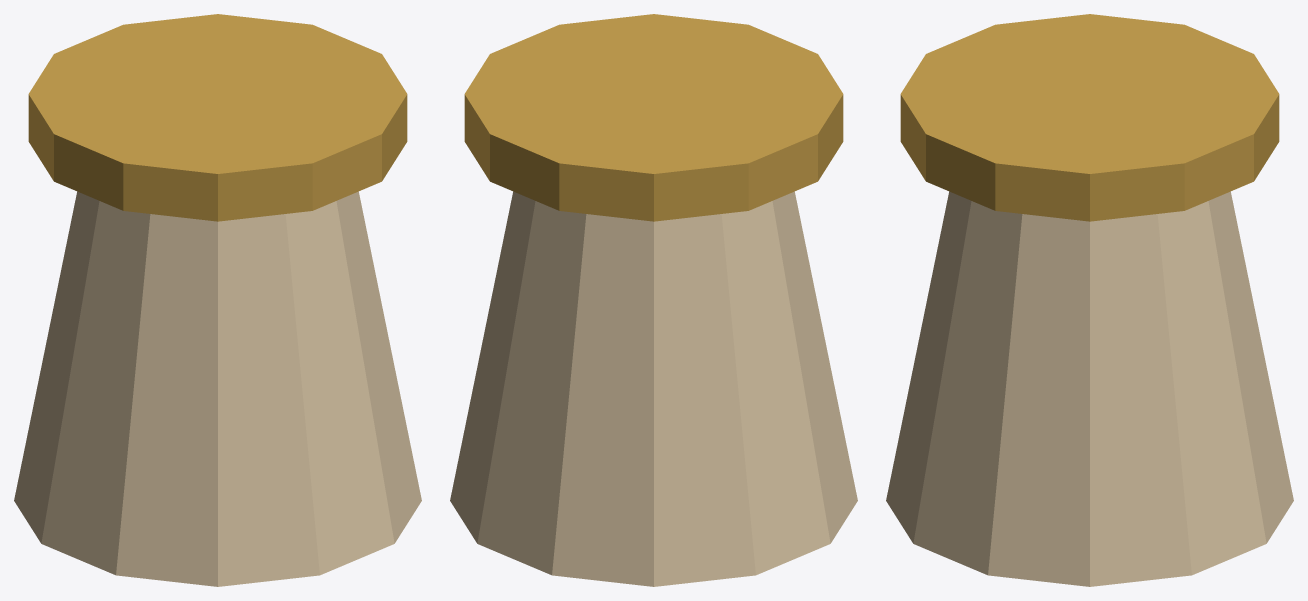
File: irrigation_pivot_01.glb
3 renders of one model, left to right at view 1: azimuth 30°, elevation 25°; view 2: azimuth 150°, elevation 25°; view 3: azimuth 270°, elevation 25°, orthographic.
Visible parts, largest first — view 1: Irrigation pivot; view 2: Irrigation pivot; view 3: Irrigation pivot.
Part boxes in pixels (box(x1,y1,x2,y2)): Irrigation pivot: box(14, 14, 421, 586); Irrigation pivot: box(450, 14, 857, 586); Irrigation pivot: box(886, 14, 1293, 586).
Bounding box in the file's own units: 1.4 × 1.54 × 1.4.
Materials: 1 (1 with a texture image).
